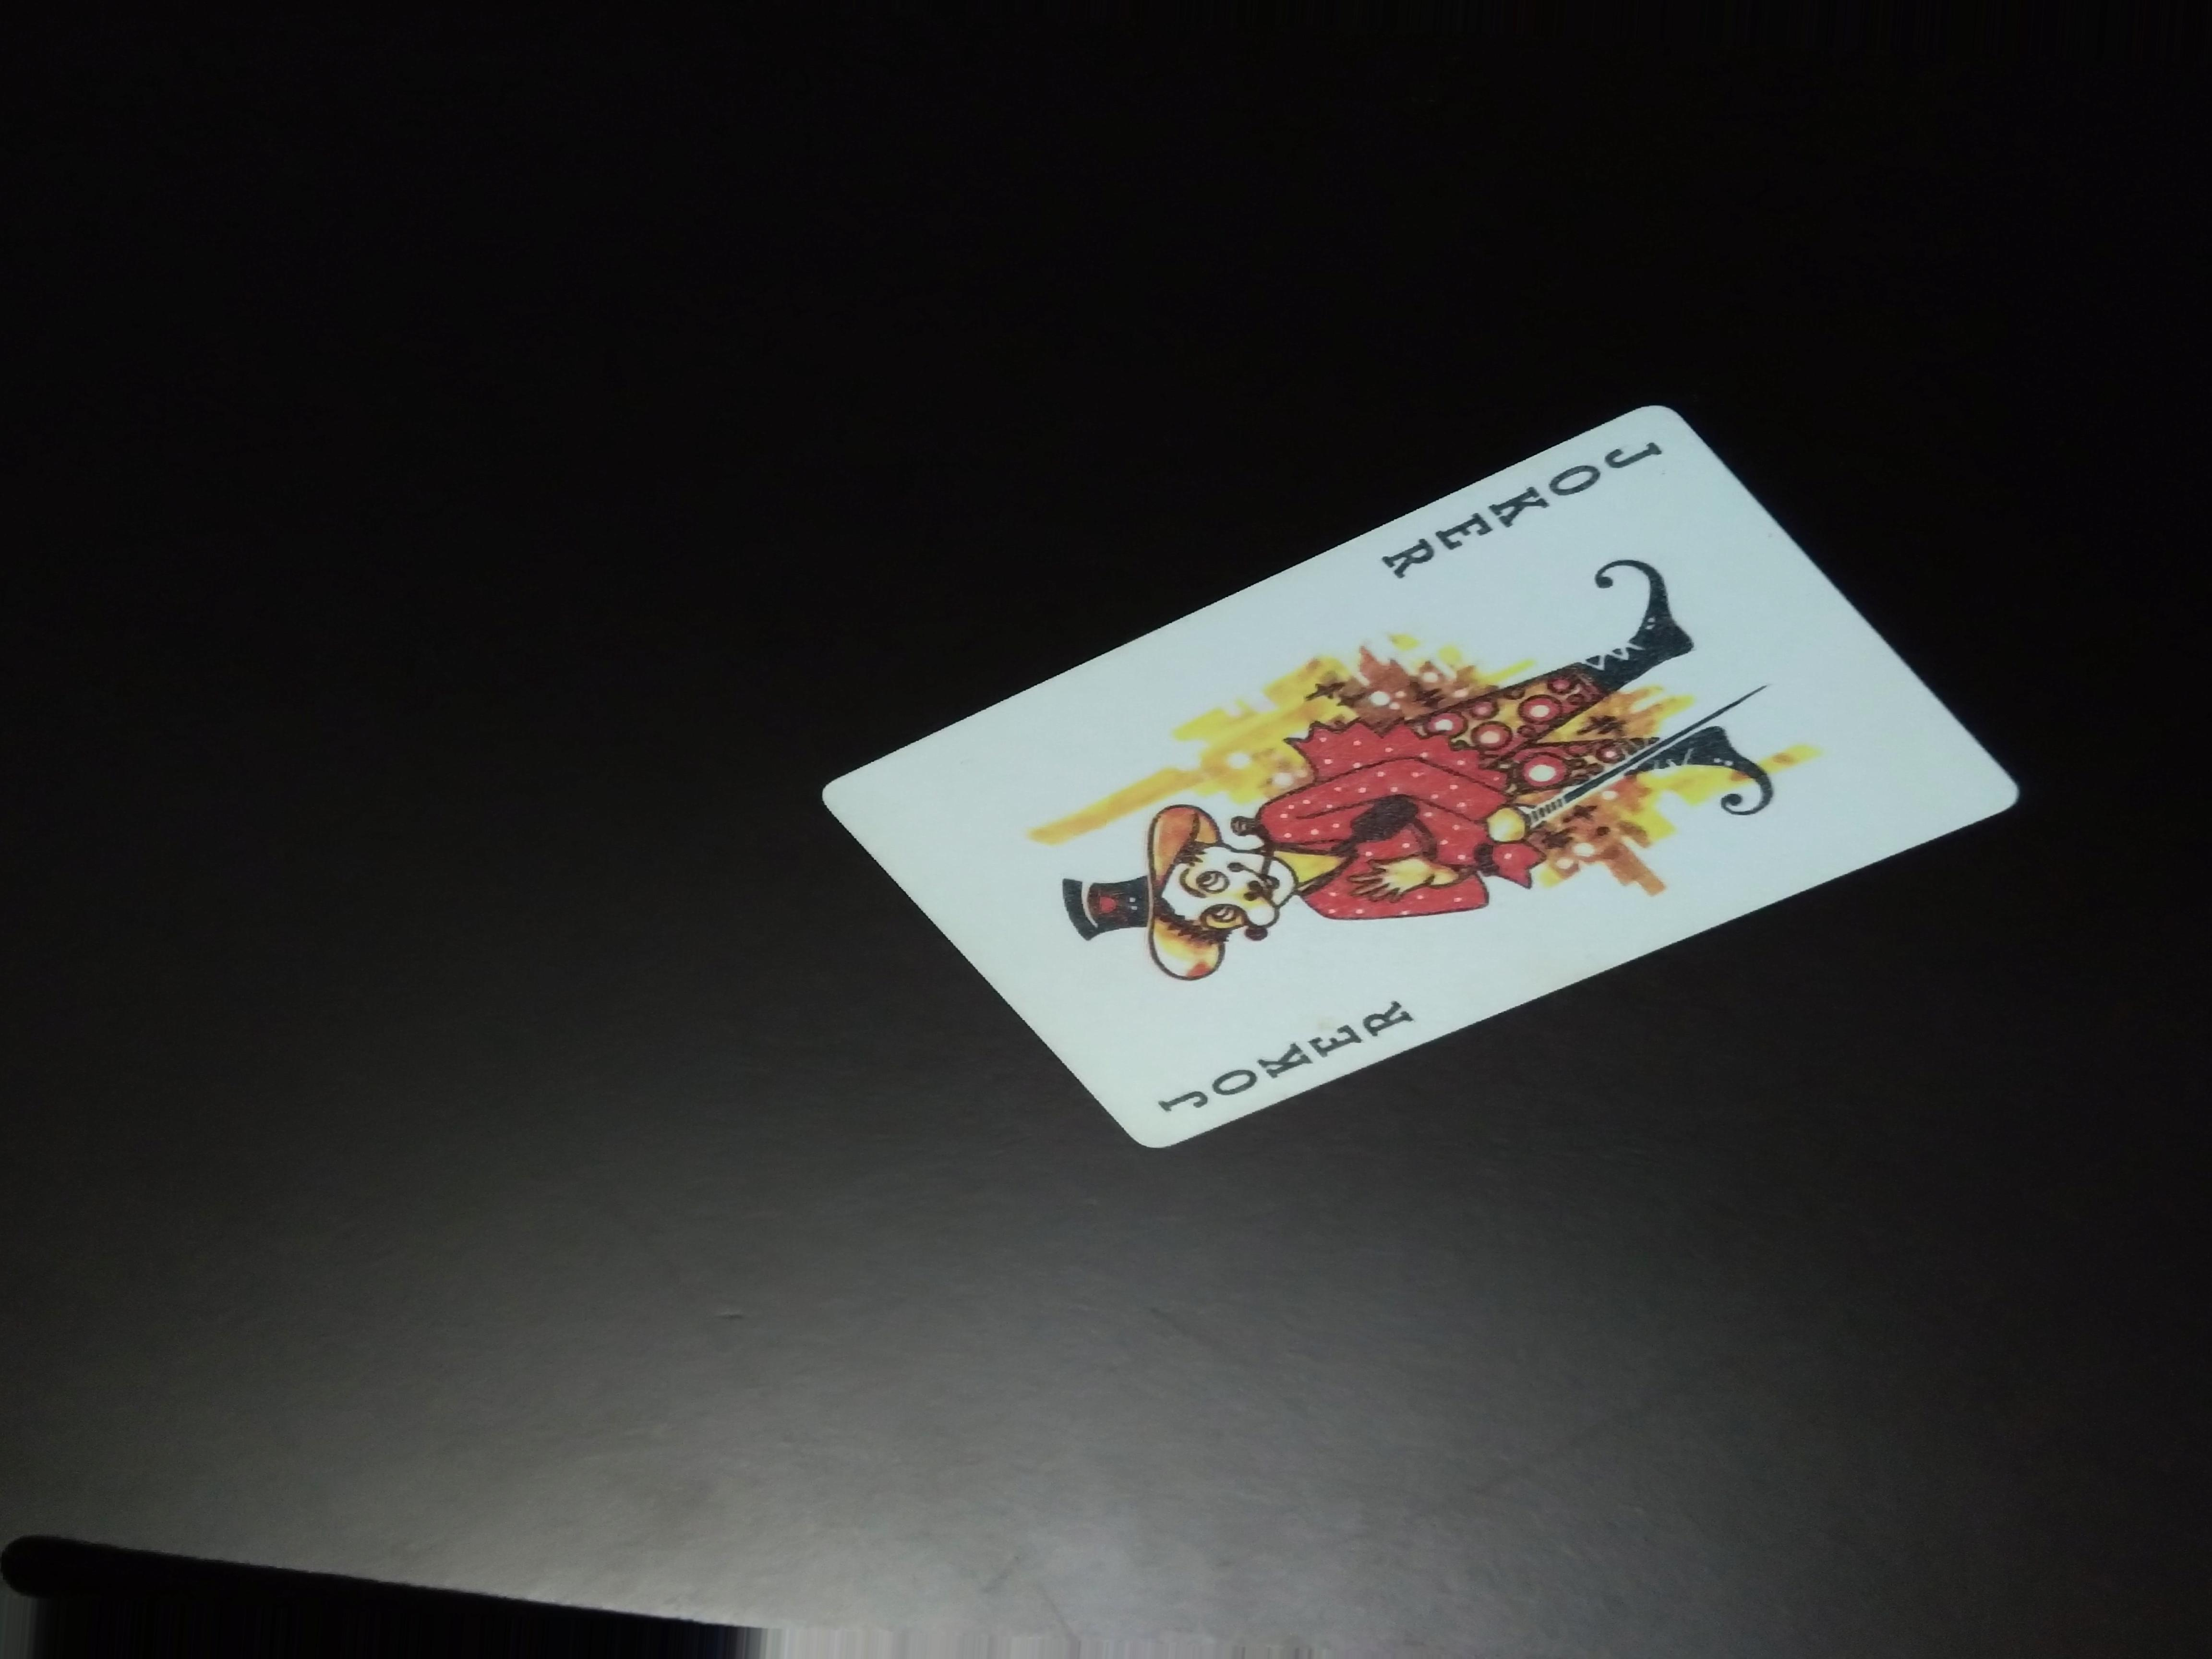JOKER: (1390, 425, 1660, 586)
